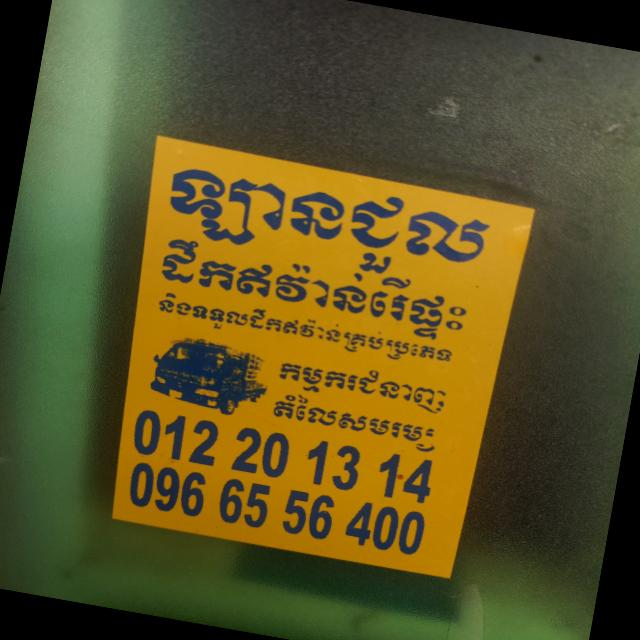246: (127, 407, 439, 504)
465: (126, 460, 430, 556)
Yolov11_80vkh: (163, 153, 504, 276), (154, 235, 473, 340), (153, 288, 457, 369), (275, 351, 459, 415), (266, 389, 443, 453)
